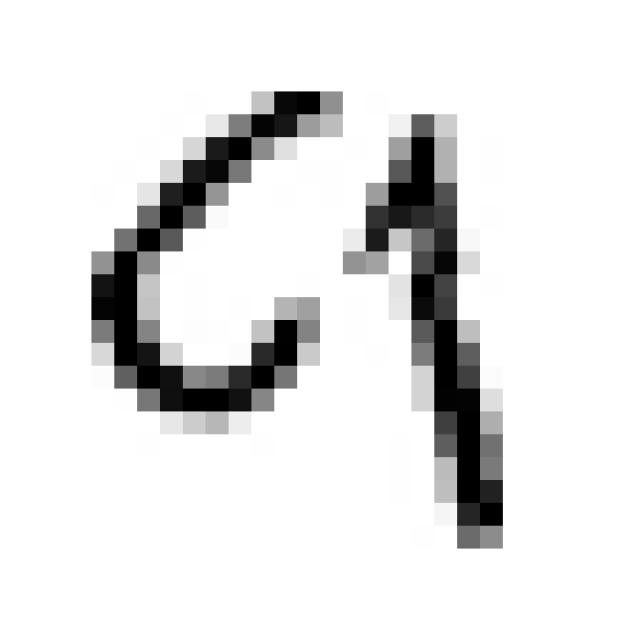9 -nine-: (71, 64, 521, 572)
